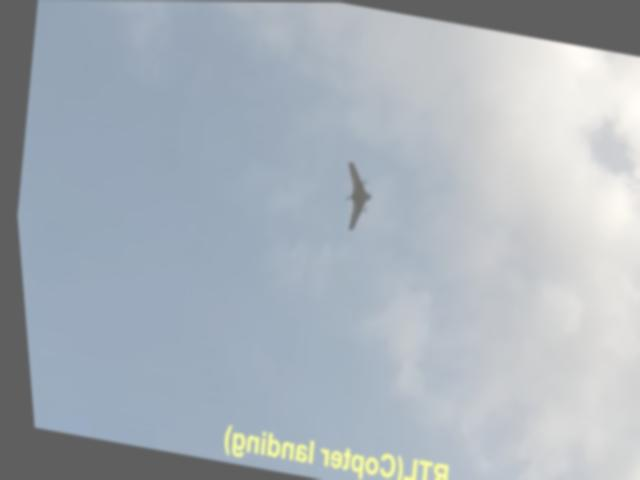plane: (333, 159, 377, 236)
